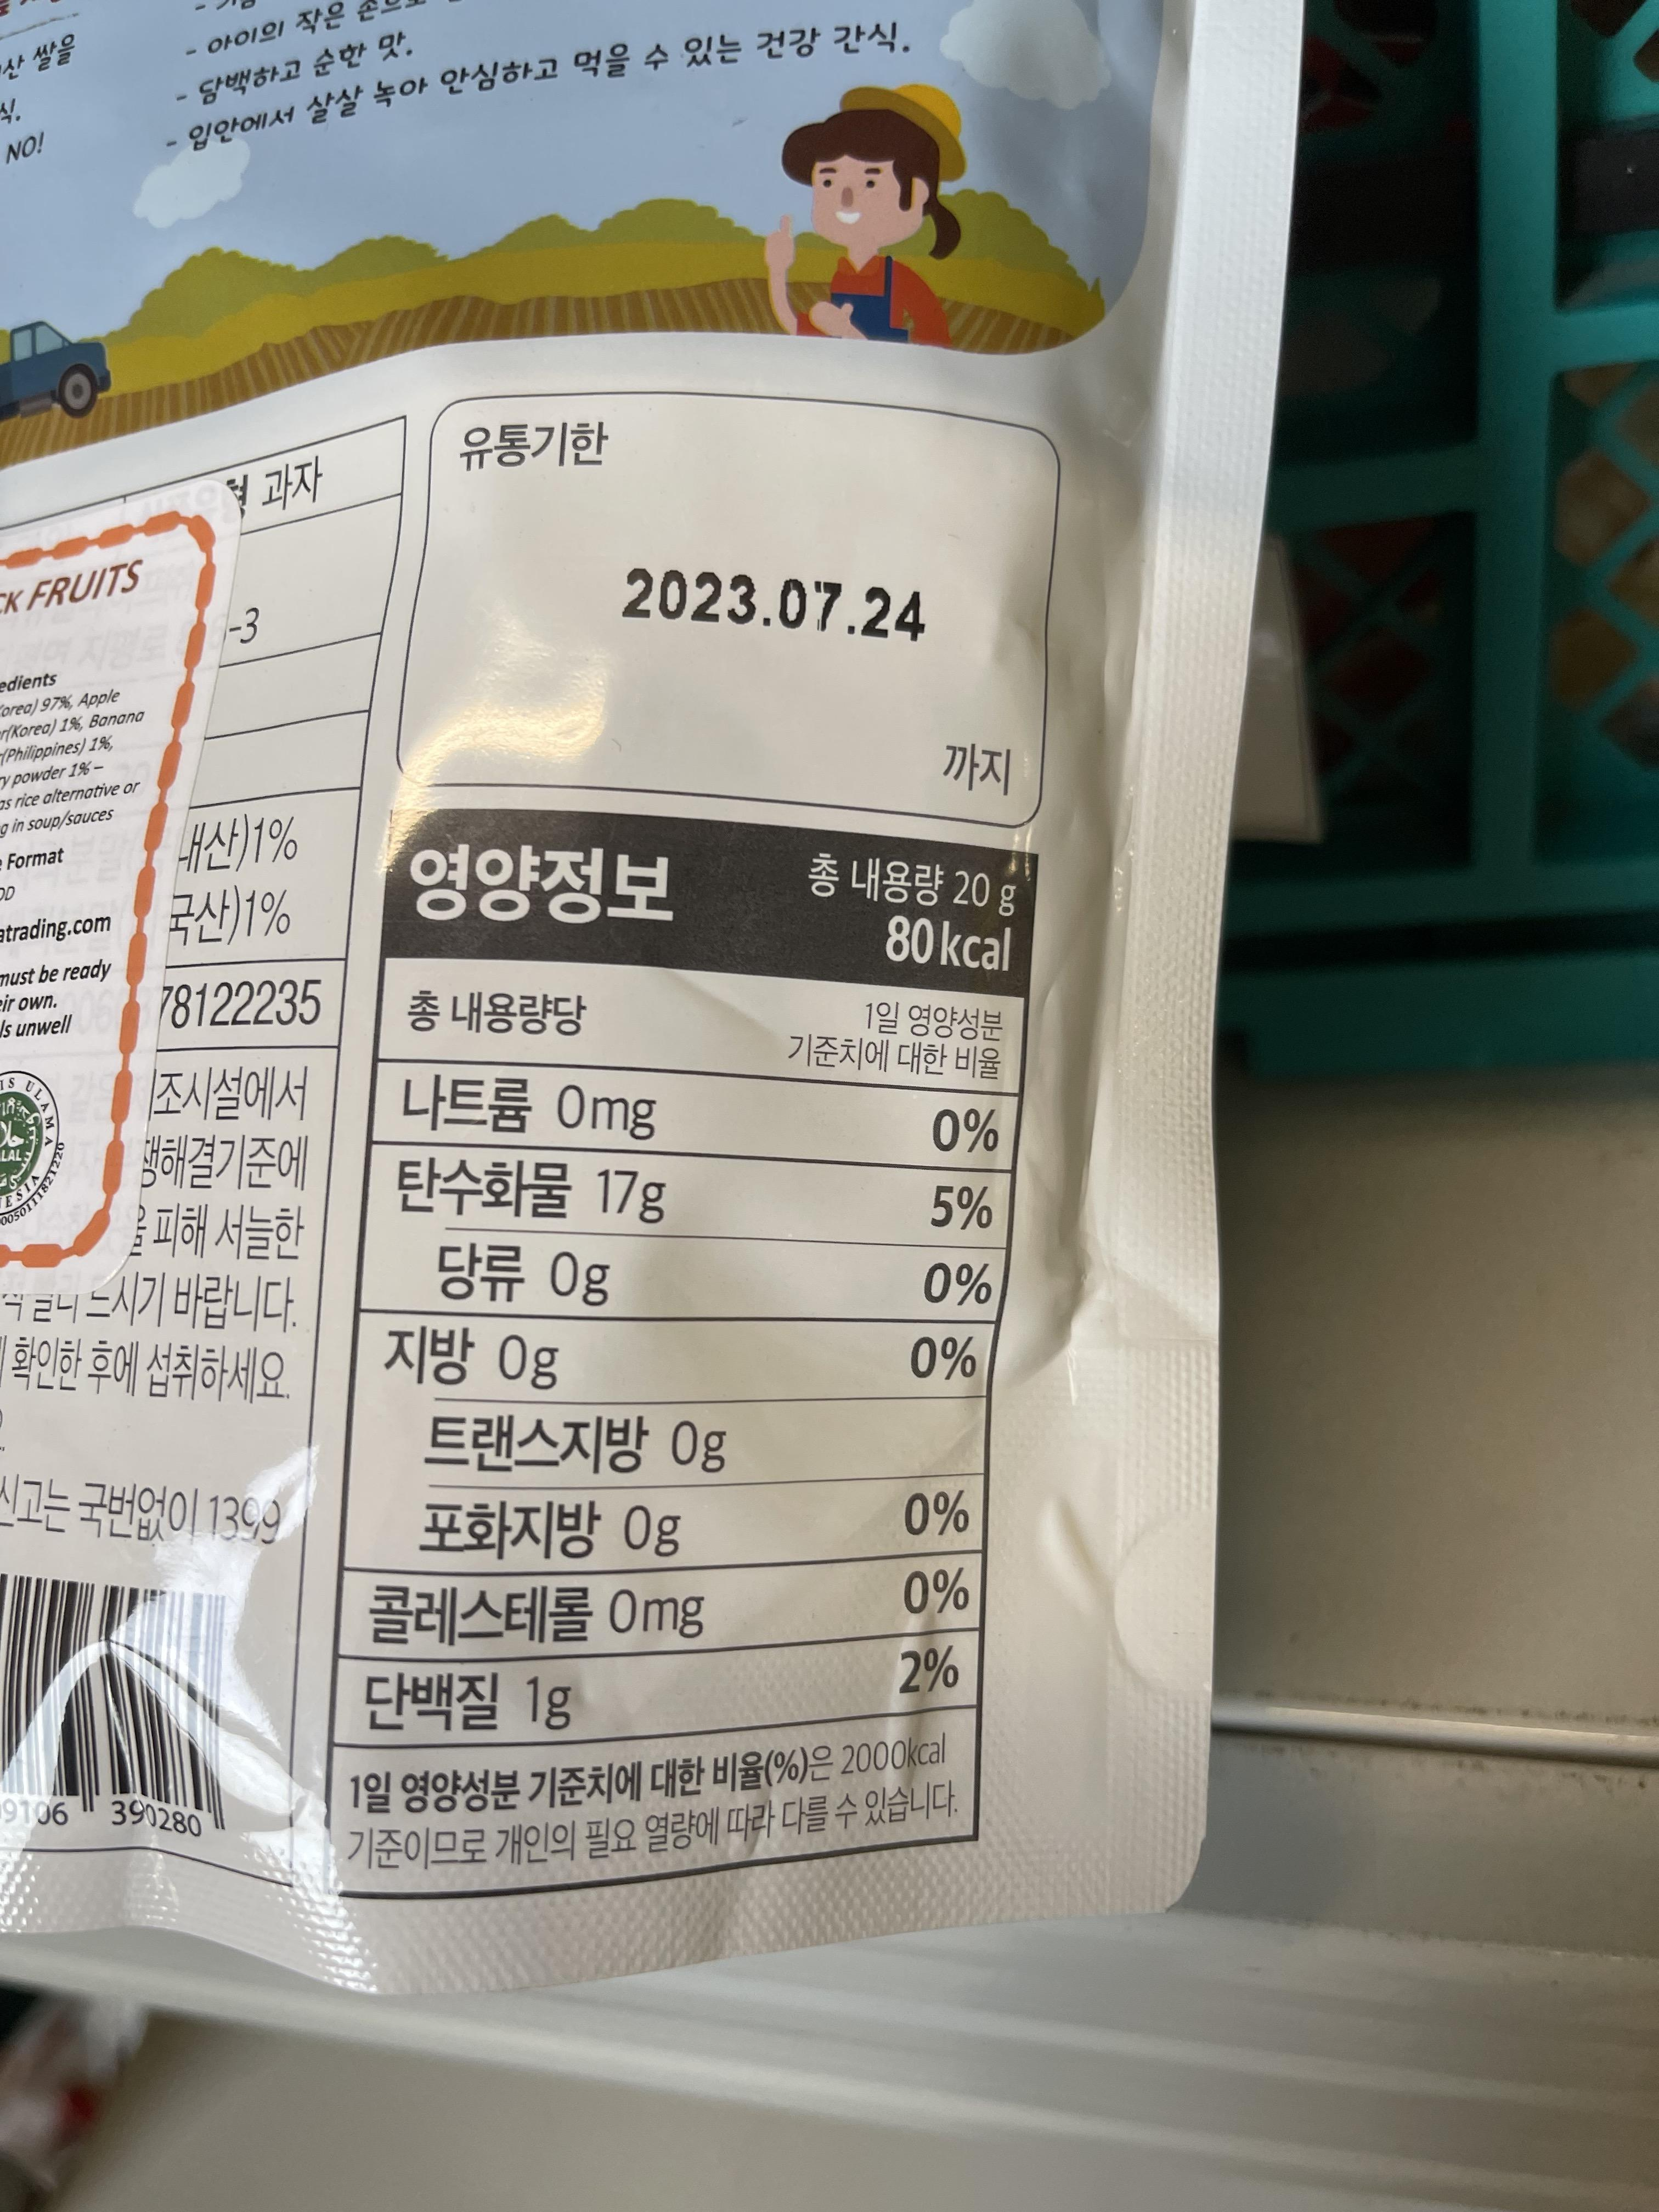object_name: (0, 0, 1295, 2024)
